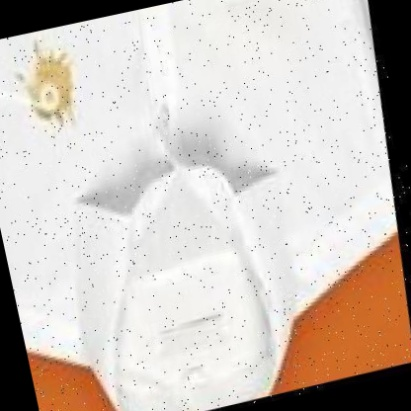coffee: (23, 54, 80, 123)
